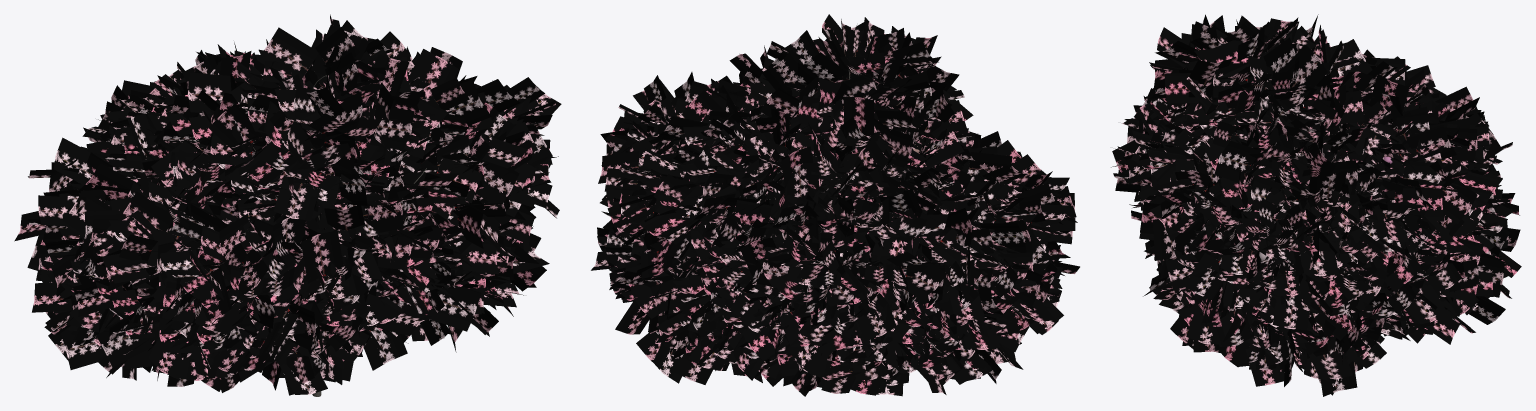
The model's file is tree_15_red_maple.glb.
3 views of the same model, side by side, from view 1: azimuth 30°, elevation 25°; view 2: azimuth 150°, elevation 25°; view 3: azimuth 270°, elevation 25° (orthographic). The views are drawn at different scales.
Visible parts, largest first — view 1: tree_15_red_maple.leaves; view 2: tree_15_red_maple.leaves; view 3: tree_15_red_maple.leaves.
Part boxes in pixels (bbox=[...]): tree_15_red_maple.leaves: bbox=[14, 14, 561, 395]; tree_15_red_maple.leaves: bbox=[591, 14, 1079, 396]; tree_15_red_maple.leaves: bbox=[1111, 14, 1521, 396].
Size of the model in its own units: 12.14 by 8.39 by 9.58.
3 materials, 2 textured.
